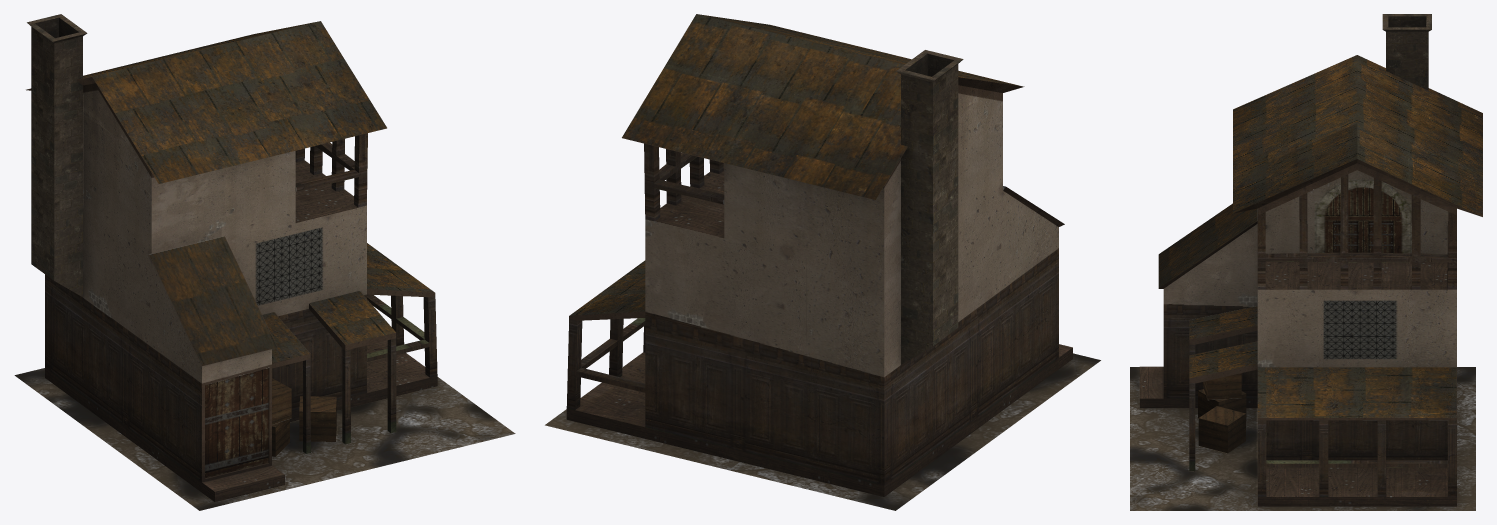
Rendered from Tavern.FBX.
3 views of the same model, side by side, from view 1: azimuth 30°, elevation 25°; view 2: azimuth 150°, elevation 25°; view 3: azimuth 270°, elevation 25° (orthographic). The views are drawn at different scales.
Parts seen in each view (by area): view 1: Tavern; view 2: Tavern; view 3: Tavern.
Part boxes in pixels (left/top/right/bottom): Tavern: left=14, top=14, right=515, bottom=510; Tavern: left=545, top=14, right=1100, bottom=510; Tavern: left=1130, top=14, right=1482, bottom=510.
Bounding box in the file's own units: 5.91 × 6.43 × 5.91.
